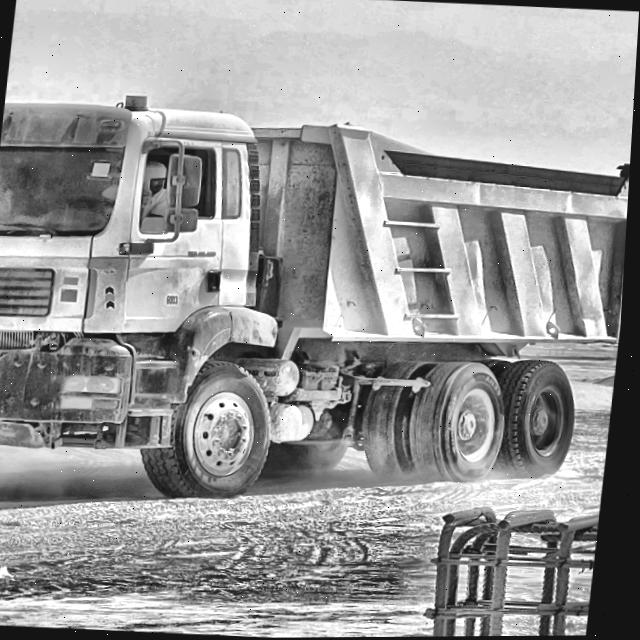dump_truck: (0, 70, 637, 522)
